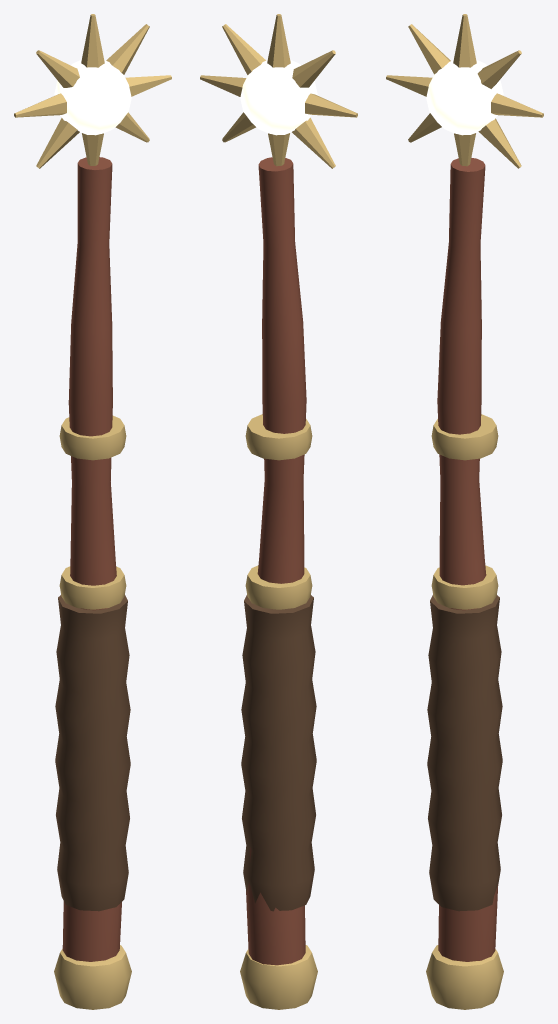
File: sunfire_wand.glb
3 renders of one model, left to right at view 1: azimuth 30°, elevation 25°; view 2: azimuth 150°, elevation 25°; view 3: azimuth 330°, elevation 25°, orthographic.
Parts seen in each view (by area): view 1: sunfire_wand; view 2: sunfire_wand; view 3: sunfire_wand.
Part boxes in pixels (x1,y1,x2,y2): sunfire_wand: (14, 14, 171, 1009); sunfire_wand: (200, 14, 357, 1009); sunfire_wand: (386, 14, 543, 1009).
Bounding box in the file's own units: 0.06 × 0.365 × 0.026.
